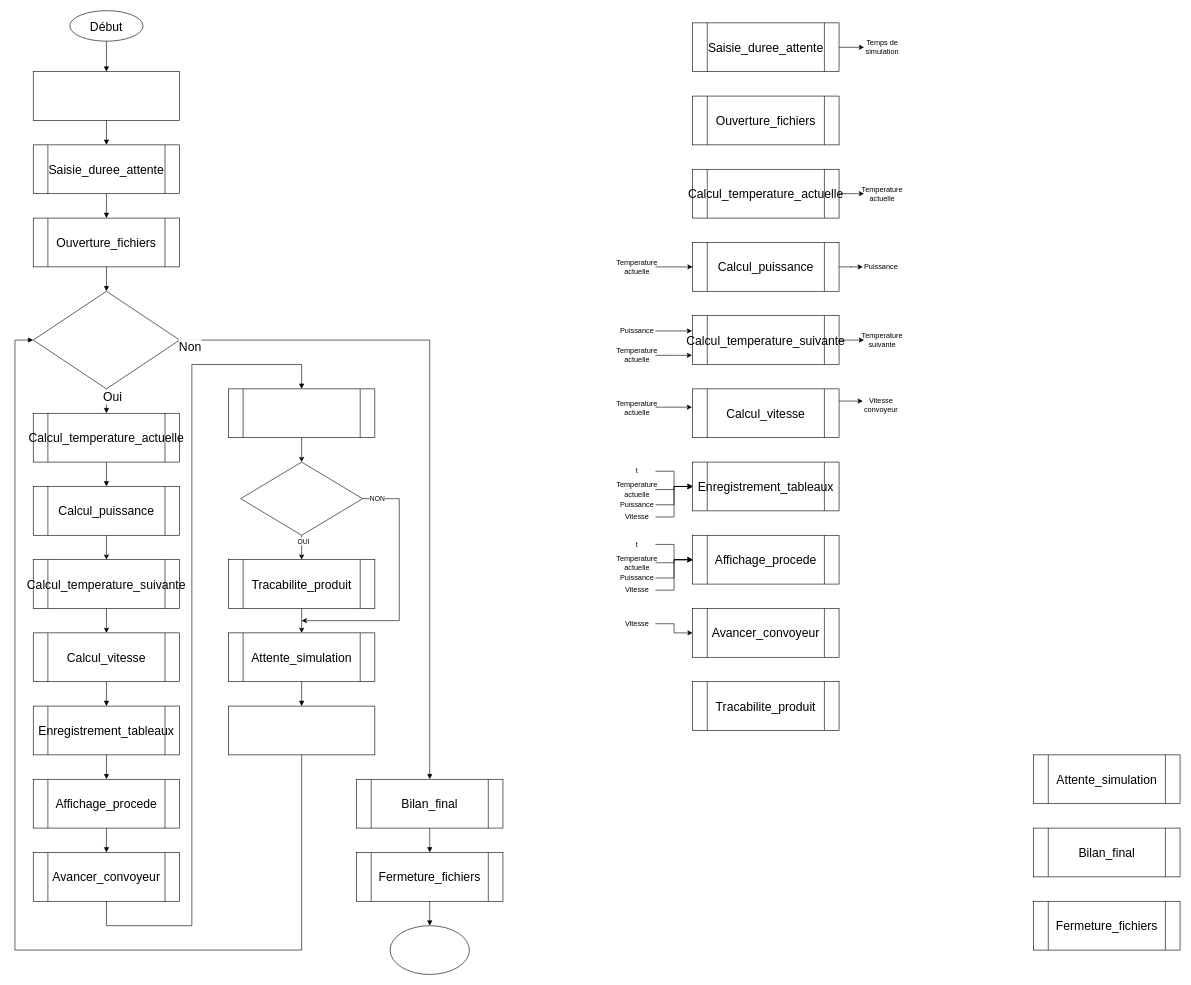
This 1191x985 diagram has some shape labels left out. Here are the shapes that lost their labels. From the top down, the centre of each, then its label:
At point (106, 95): "temp_interne := 20 temp_consigne := -20 distance := 0 numero_produit := 0 t := 0".
At point (106, 340): "t ≤ 360 ?".
At point (301, 413): "Detection_produit".
At point (301, 498): "Produit_detecte ?".
At point (301, 730): "t := t + 1".
At point (429, 949): "Fin".
